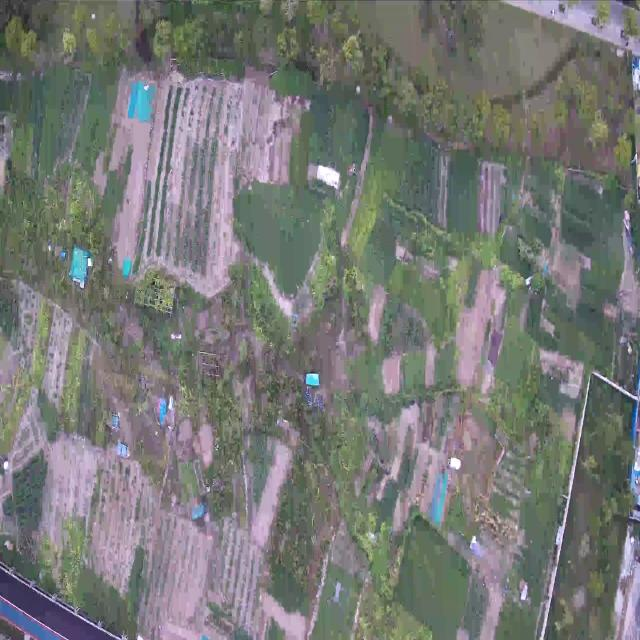UAV: (326, 577, 348, 612)
